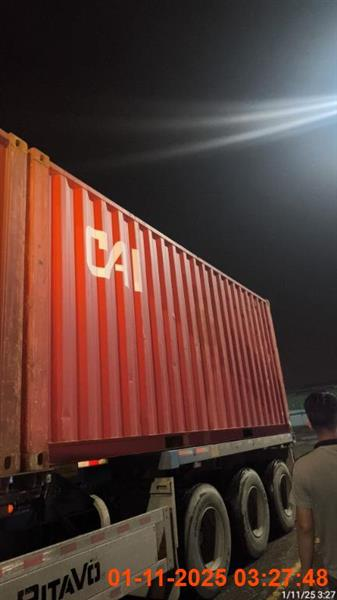broken: (0, 130, 297, 581), (289, 390, 336, 594)
